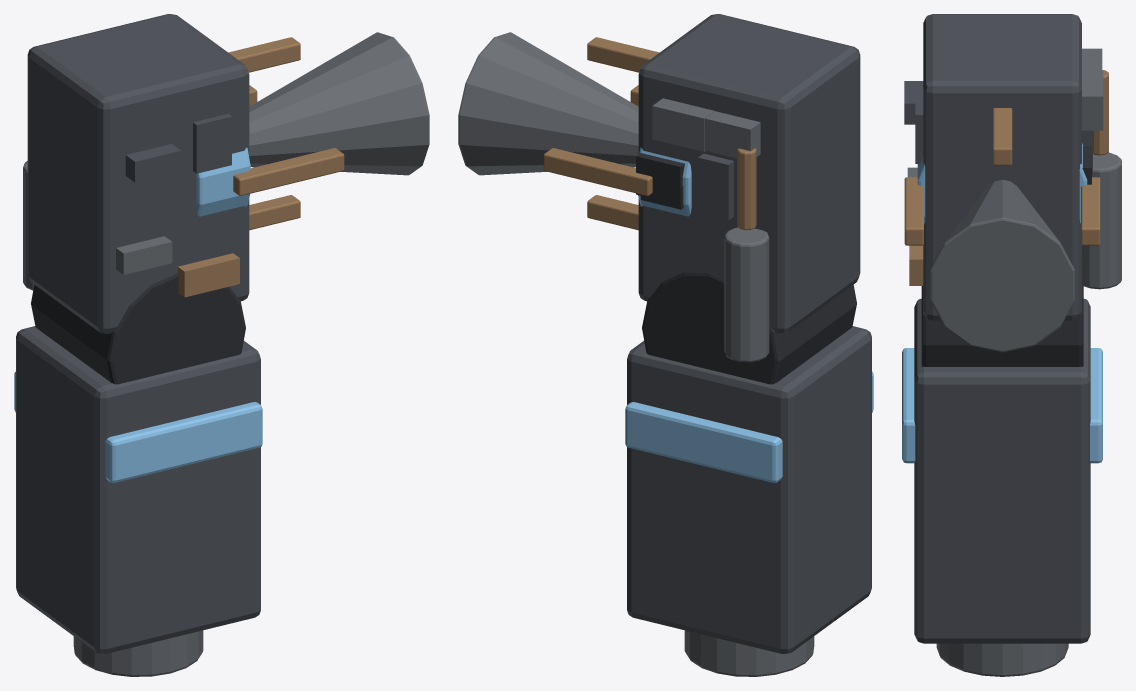
File: module_arm_mining.fbx
3 renders of one model, left to right at view 1: azimuth 30°, elevation 25°; view 2: azimuth 150°, elevation 25°; view 3: azimuth 270°, elevation 25°, orthographic.
Visible parts, largest first — view 1: SM_Module_ArmMining; view 2: SM_Module_ArmMining; view 3: SM_Module_ArmMining.
Boxes of the visible parts, x1,y1,x2,y2 form: SM_Module_ArmMining: [14, 14, 429, 676]; SM_Module_ArmMining: [458, 14, 873, 676]; SM_Module_ArmMining: [902, 14, 1121, 676].
Size of what is drawn, in the model's own units: 45 by 75.5 by 24.93.
